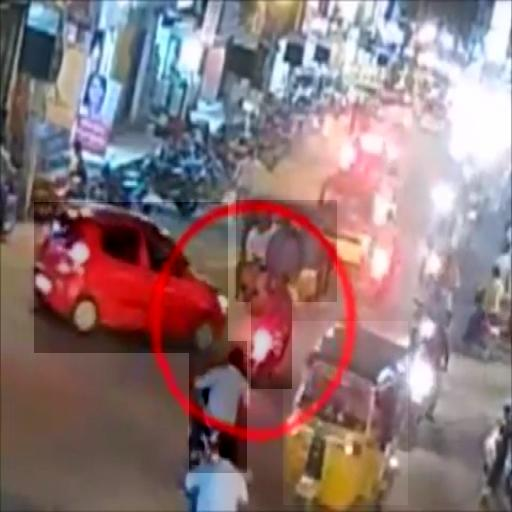小汽车: (34, 202, 228, 353), (283, 321, 408, 505), (236, 200, 337, 302)
自行车: (189, 342, 247, 474), (251, 275, 292, 389)
